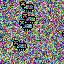sheep: (19, 19, 34, 31), (12, 40, 27, 51), (20, 1, 34, 12), (22, 13, 36, 24)
